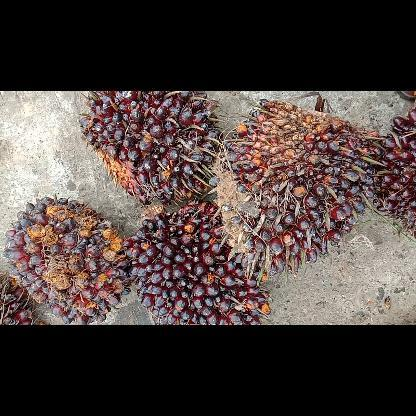Kurang masak: (212, 96, 384, 276), (118, 198, 272, 324), (74, 90, 224, 208), (0, 190, 131, 325)
